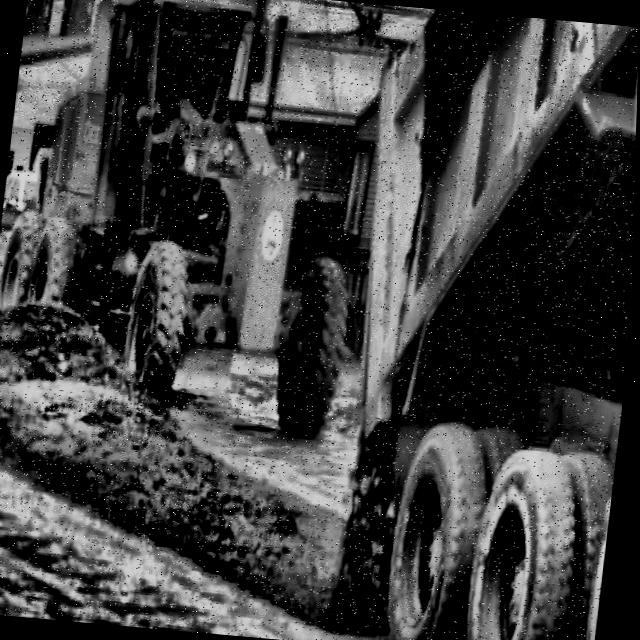dump_truck: (301, 3, 640, 640)
